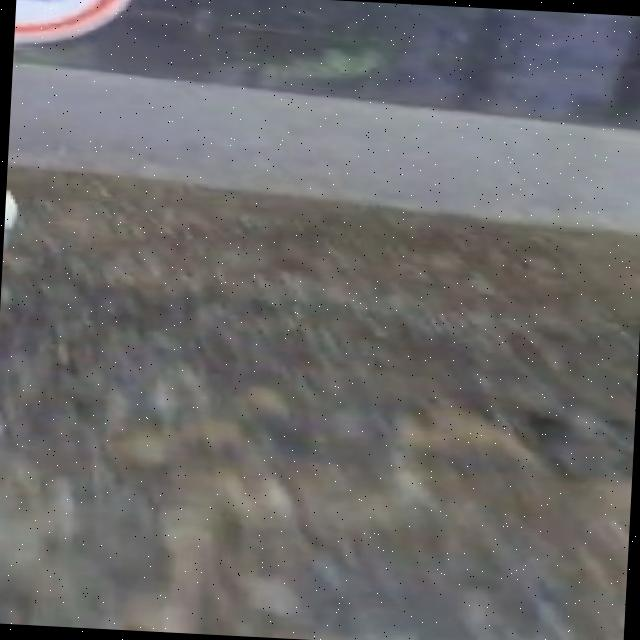Speed60: (13, 0, 162, 64)
